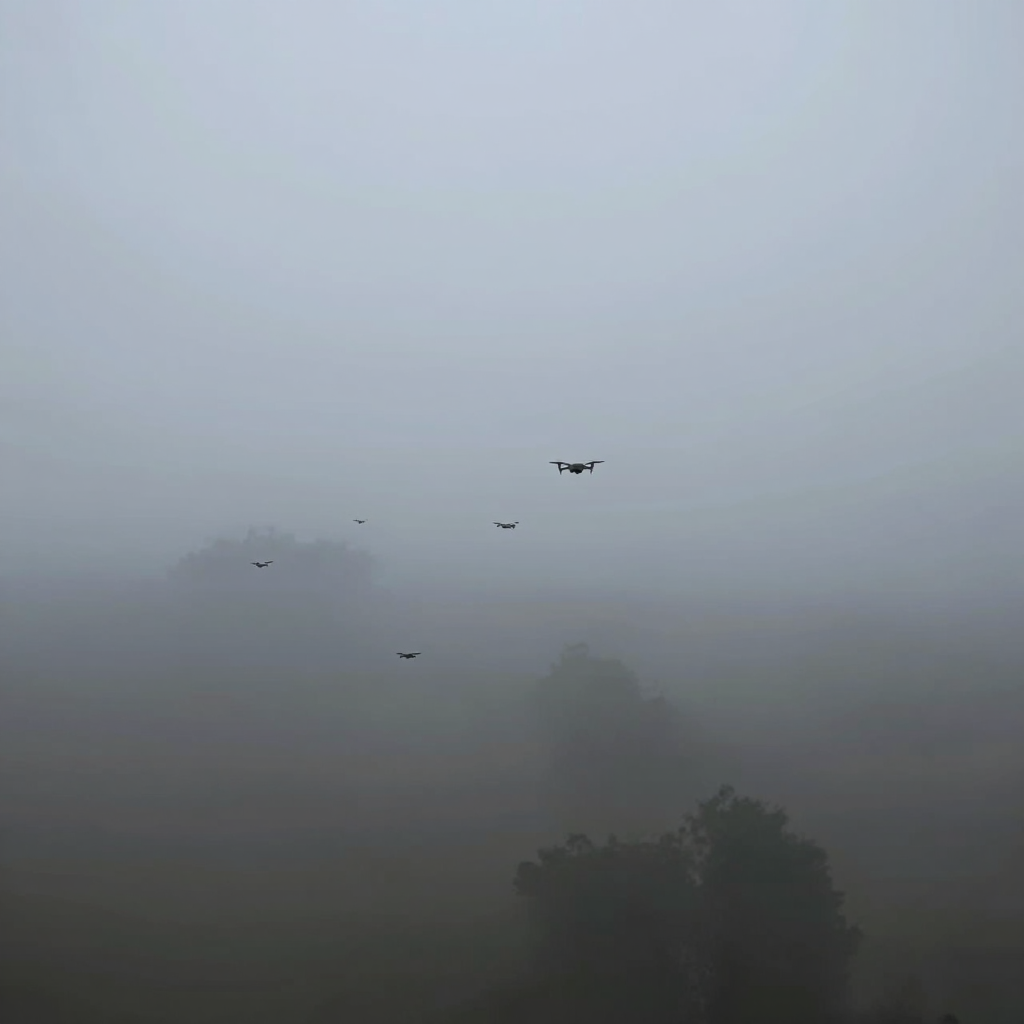drone: (549, 461, 604, 475), (493, 521, 519, 529), (396, 652, 421, 659), (250, 561, 274, 568), (352, 519, 368, 524), (512, 521, 519, 530)
